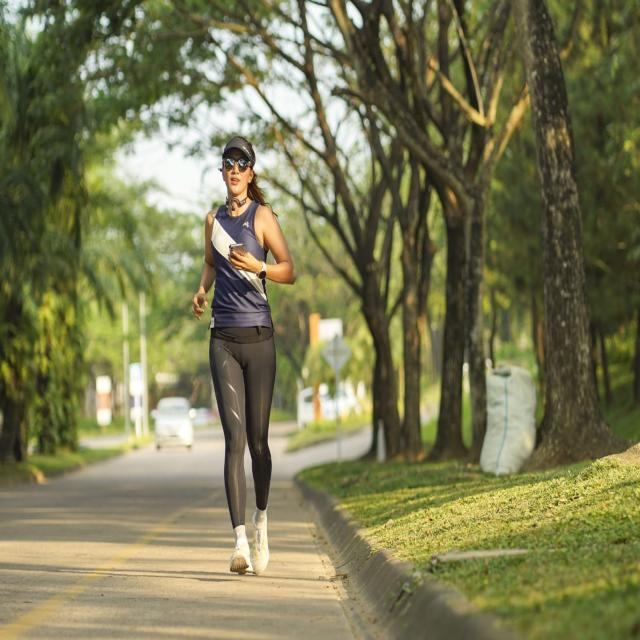Person: (194, 136, 298, 578)
